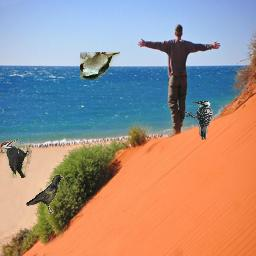Crow: (26, 174, 65, 214)
Swallow: (80, 52, 120, 80)
Woodpecker: (0, 138, 32, 178), (184, 100, 214, 140)
